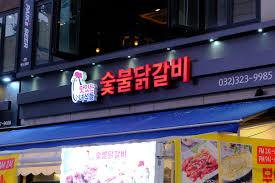galbi: (152, 53, 193, 91)
